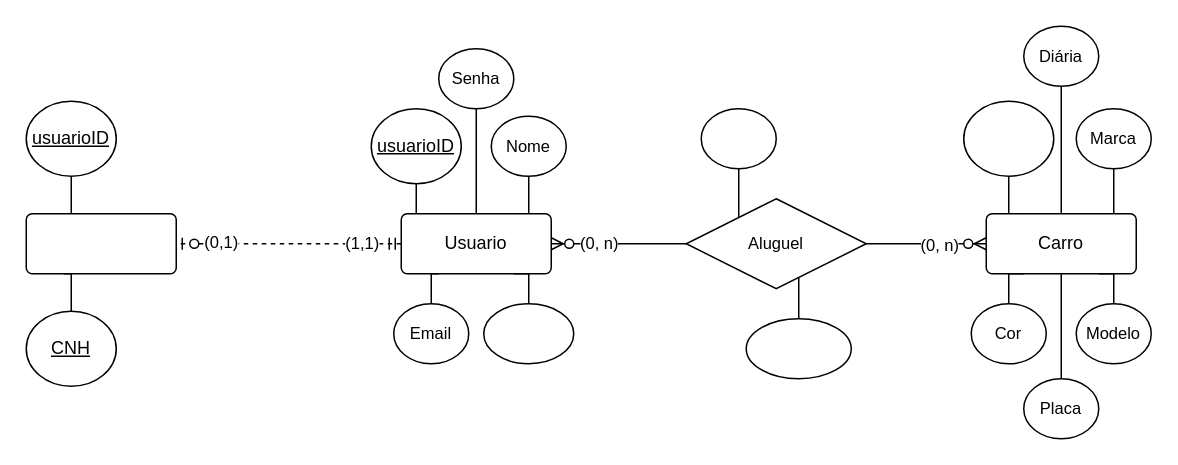
The diagram is 1178 pixels wide and 465 high, and some of its shapes have lost their labels. The centre of each missing label's shape, as x and y in pixels:
"carroID" belongs at (1008,138).
"Cliente" belongs at (100,243).
"Data Aluguel" belongs at (738,138).
"Data Devolução" belongs at (798,348).
"Data Registro" belongs at (528,333).
